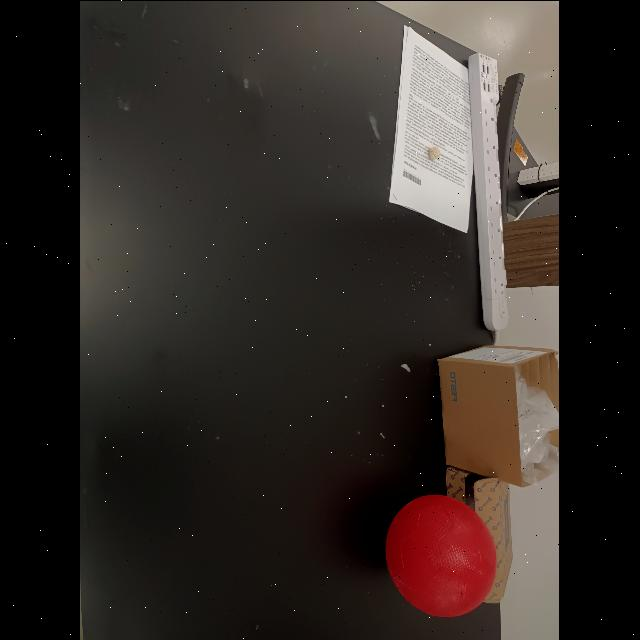R: (385, 494, 497, 616)
